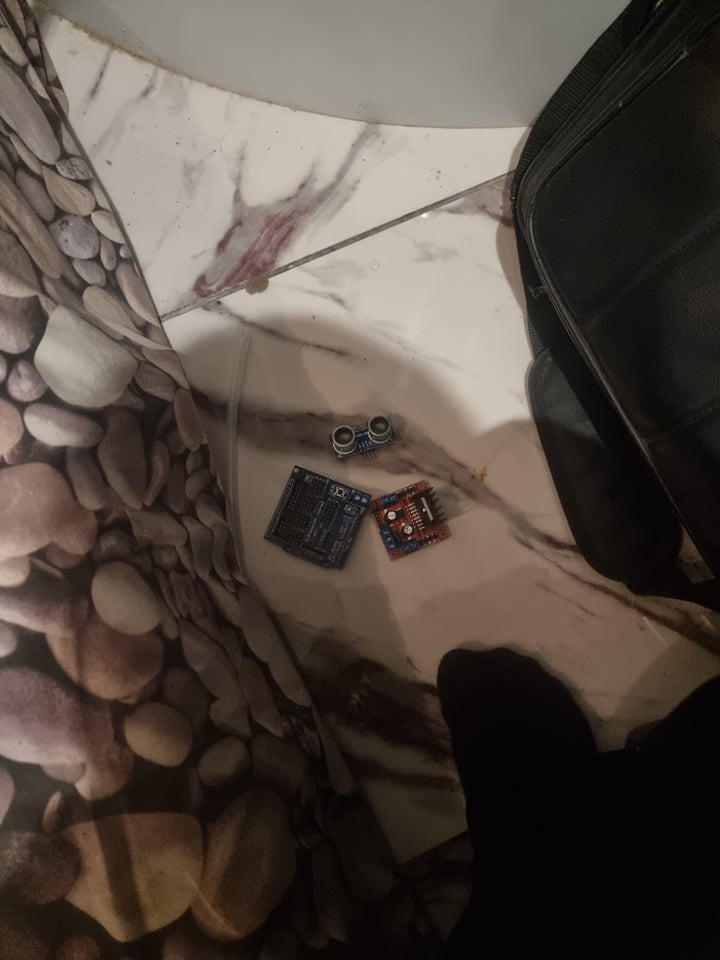5V EXPANSION: (265, 466, 370, 570)
MOTOR: (373, 480, 451, 563)
SENSOR: (327, 415, 393, 462)
